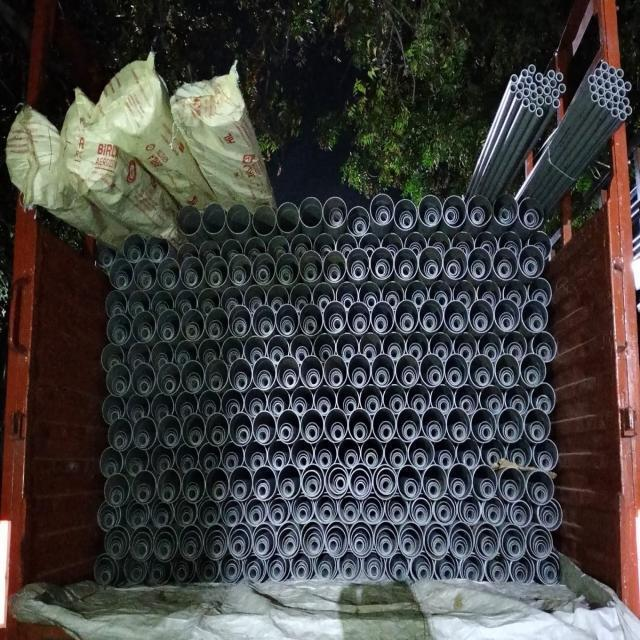pipe: (297, 189, 324, 231), (519, 296, 548, 333), (393, 246, 420, 283), (500, 523, 527, 560), (373, 520, 398, 559), (249, 199, 277, 233), (324, 520, 349, 558), (368, 192, 395, 227), (407, 433, 434, 468), (372, 243, 396, 282), (448, 462, 473, 499), (277, 466, 302, 503), (498, 408, 526, 441), (339, 550, 362, 590), (370, 352, 397, 386), (349, 462, 373, 500), (302, 465, 327, 501), (519, 246, 546, 279), (499, 469, 526, 502), (299, 520, 323, 557), (176, 203, 202, 237), (274, 354, 300, 388), (157, 254, 182, 289), (323, 193, 348, 228), (419, 246, 444, 281), (206, 412, 231, 447), (471, 407, 496, 442), (446, 408, 471, 443), (432, 550, 460, 581), (533, 436, 561, 467), (519, 197, 546, 229), (493, 299, 520, 331), (423, 465, 447, 501), (132, 470, 158, 503), (104, 473, 130, 506), (425, 524, 450, 558), (300, 408, 324, 443), (170, 553, 198, 583), (105, 365, 132, 396), (156, 363, 182, 395), (494, 355, 520, 387), (472, 465, 498, 497), (528, 469, 554, 501), (322, 300, 347, 333), (228, 359, 253, 392), (277, 412, 302, 445), (132, 415, 157, 448), (443, 249, 468, 282), (523, 354, 548, 387), (267, 494, 292, 527), (228, 523, 253, 556), (276, 522, 300, 556), (315, 548, 339, 582), (457, 438, 485, 467), (527, 471, 556, 499), (371, 303, 398, 333), (493, 251, 519, 282), (420, 298, 443, 333), (300, 354, 323, 389), (230, 412, 253, 447), (397, 407, 422, 439), (180, 256, 205, 288), (346, 301, 371, 333), (156, 415, 181, 447), (324, 464, 349, 496), (373, 466, 398, 498), (93, 550, 118, 582), (154, 525, 179, 557), (206, 306, 227, 344), (476, 523, 498, 559), (127, 497, 154, 526), (386, 492, 409, 526), (291, 550, 314, 584), (231, 467, 254, 501), (109, 257, 135, 287), (480, 437, 506, 467), (503, 442, 533, 468), (349, 523, 375, 553), (418, 191, 443, 222), (227, 254, 252, 285), (181, 309, 206, 340), (406, 383, 431, 414), (409, 437, 434, 468), (449, 523, 474, 554), (323, 249, 347, 281), (158, 469, 182, 501), (254, 306, 277, 339), (348, 354, 371, 387), (254, 412, 277, 445), (470, 247, 493, 280), (325, 408, 348, 441), (525, 413, 552, 441), (400, 465, 421, 501), (107, 526, 134, 554), (133, 524, 154, 560), (217, 555, 243, 584), (203, 257, 228, 287), (243, 387, 268, 417), (182, 415, 207, 445), (470, 354, 495, 384), (132, 310, 156, 341), (277, 252, 301, 283), (393, 197, 417, 228), (480, 384, 504, 415), (227, 202, 250, 234), (300, 303, 323, 335), (371, 301, 394, 333), (221, 335, 244, 367), (119, 233, 146, 260), (458, 555, 484, 583), (204, 203, 226, 236), (423, 409, 445, 442), (376, 528, 398, 561), (505, 383, 530, 412), (104, 288, 128, 318), (243, 333, 267, 363), (109, 418, 133, 448), (152, 444, 175, 475), (373, 409, 396, 440), (385, 437, 408, 468), (433, 384, 455, 416), (135, 257, 157, 289), (382, 384, 408, 411), (468, 301, 494, 328), (131, 366, 156, 394), (102, 395, 127, 423), (531, 335, 556, 363), (198, 442, 223, 470), (253, 358, 276, 388), (406, 279, 429, 309), (361, 437, 384, 467), (338, 437, 361, 467), (206, 469, 229, 499), (486, 553, 509, 583), (205, 358, 227, 389), (495, 195, 517, 226), (247, 553, 269, 584), (364, 546, 384, 580), (127, 343, 153, 369), (479, 332, 503, 360), (349, 410, 373, 438), (312, 282, 335, 311), (359, 331, 382, 360), (336, 332, 359, 361), (454, 331, 477, 360), (337, 383, 360, 412), (431, 495, 454, 524), (266, 282, 288, 312), (447, 195, 469, 225), (361, 385, 383, 415), (361, 496, 383, 526), (404, 280, 429, 306), (476, 279, 501, 305), (483, 497, 508, 523), (177, 392, 201, 419), (146, 232, 169, 260), (102, 343, 125, 371), (152, 341, 175, 369), (126, 448, 149, 476), (184, 469, 207, 497), (314, 439, 337, 467), (126, 555, 149, 583), (175, 498, 198, 526), (267, 552, 290, 580), (537, 553, 560, 581), (277, 202, 299, 231), (408, 331, 429, 361), (528, 232, 553, 257), (468, 201, 492, 227), (290, 440, 314, 466), (335, 281, 358, 308), (200, 391, 223, 418), (222, 389, 245, 416), (349, 204, 369, 235), (445, 354, 465, 385), (456, 384, 478, 412), (338, 494, 360, 522), (429, 279, 450, 308), (314, 385, 335, 414), (411, 495, 432, 524), (255, 528, 274, 560), (220, 286, 244, 311), (528, 280, 553, 304), (293, 336, 316, 362), (175, 340, 198, 366), (102, 449, 125, 475), (532, 384, 555, 410), (430, 333, 452, 360), (314, 332, 336, 359), (182, 361, 204, 388), (435, 438, 457, 465), (293, 497, 315, 524), (154, 498, 176, 525), (176, 443, 197, 471), (459, 496, 480, 524), (184, 524, 205, 552), (540, 501, 560, 530), (242, 285, 266, 309), (290, 233, 313, 258), (269, 388, 292, 413), (498, 230, 521, 255), (383, 332, 405, 358), (411, 554, 433, 580), (175, 288, 196, 315), (129, 290, 150, 317), (268, 335, 289, 362), (268, 440, 289, 467), (197, 288, 220, 312), (290, 387, 314, 410), (150, 393, 174, 416), (455, 279, 478, 303), (398, 529, 421, 553), (148, 561, 172, 584), (128, 392, 150, 417), (452, 231, 474, 256), (389, 554, 411, 579), (100, 503, 121, 529), (198, 555, 218, 582), (248, 441, 268, 468), (378, 234, 406, 253), (152, 290, 174, 314), (506, 279, 527, 304), (206, 529, 226, 555), (246, 498, 266, 524), (377, 469, 396, 496), (220, 240, 243, 262), (314, 233, 337, 255), (199, 338, 219, 363), (478, 529, 498, 554), (155, 534, 175, 559), (258, 464, 278, 489), (530, 530, 550, 555), (330, 467, 348, 494), (232, 528, 250, 555), (405, 232, 427, 254), (201, 501, 221, 525), (512, 562, 532, 586), (174, 241, 199, 260), (290, 283, 309, 308), (302, 529, 321, 554), (351, 468, 369, 494), (430, 229, 451, 251), (245, 237, 264, 261), (429, 528, 448, 552), (453, 530, 471, 555), (384, 282, 405, 303), (503, 237, 524, 258), (225, 500, 243, 524), (336, 234, 357, 254), (358, 232, 379, 252), (199, 241, 221, 260), (514, 502, 532, 525), (491, 559, 508, 583), (374, 256, 393, 277), (326, 206, 344, 228), (328, 310, 345, 333), (132, 533, 152, 552), (108, 483, 126, 504), (502, 478, 519, 500), (270, 558, 284, 584), (362, 288, 381, 307), (185, 322, 202, 343), (351, 311, 368, 332), (269, 501, 286, 522), (255, 532, 271, 554), (137, 372, 152, 395), (210, 533, 225, 556), (443, 205, 460, 225), (384, 289, 401, 309), (296, 341, 313, 361), (328, 367, 345, 387), (225, 397, 242, 417), (352, 421, 369, 441), (506, 535, 522, 556), (503, 420, 518, 442), (159, 269, 178, 286), (248, 398, 265, 417), (480, 231, 499, 248), (487, 393, 503, 413), (530, 420, 546, 440), (542, 562, 558, 582), (437, 393, 452, 414), (413, 503, 427, 525), (284, 533, 298, 555), (199, 296, 216, 314), (295, 297, 313, 314), (319, 343, 337, 360), (351, 369, 368, 387), (256, 369, 273, 387), (352, 537, 369, 555), (499, 366, 515, 385), (451, 478, 467, 497), (438, 562, 457, 578), (254, 480, 273, 496), (233, 316, 248, 336), (374, 313, 389, 333), (390, 394, 405, 414), (234, 372, 249, 392), (235, 425, 250, 445), (538, 341, 553, 361), (354, 476, 369, 496), (405, 478, 420, 498), (480, 479, 495, 499), (226, 507, 241, 527), (540, 447, 555, 467), (388, 341, 402, 362), (326, 264, 343, 281), (130, 353, 147, 370), (137, 321, 153, 339), (427, 367, 443, 385), (412, 395, 428, 413), (269, 394, 285, 412), (496, 259, 514, 275), (499, 311, 515, 329), (507, 342, 523, 360), (426, 421, 442, 439), (401, 420, 417, 438), (511, 448, 527, 466), (294, 559, 310, 577), (464, 563, 480, 581), (225, 450, 241, 468), (392, 504, 405, 526), (271, 298, 286, 317), (280, 316, 295, 335), (375, 205, 390, 224), (162, 374, 177, 393), (472, 258, 487, 277), (444, 260, 463, 275), (478, 421, 493, 440), (462, 448, 477, 467), (486, 505, 501, 524), (304, 261, 318, 281), (363, 340, 377, 360), (318, 500, 332, 520), (257, 264, 270, 285), (463, 501, 476, 522), (398, 259, 414, 276), (292, 395, 308, 412), (523, 258, 540, 274), (532, 287, 549, 303), (510, 395, 526, 412), (208, 268, 223, 286), (352, 216, 367, 234), (399, 210, 414, 228), (317, 396, 332, 414), (209, 371, 224, 389), (155, 403, 173, 418), (257, 425, 272, 443), (109, 488, 124, 506), (476, 367, 491, 385), (525, 366, 540, 384), (272, 451, 287, 469), (202, 561, 217, 579), (332, 474, 346, 493), (402, 534, 416, 553), (379, 534, 392, 554), (180, 504, 193, 524), (138, 271, 154, 287), (156, 300, 172, 316), (424, 208, 440, 224), (247, 347, 263, 363), (506, 289, 522, 305), (503, 484, 519, 500), (479, 536, 495, 552), (232, 266, 247, 283), (247, 295, 262, 312), (342, 346, 357, 363), (294, 347, 309, 364), (402, 367, 417, 384), (448, 369, 463, 386), (281, 369, 296, 386), (187, 371, 202, 388), (296, 503, 311, 520), (415, 561, 430, 578), (135, 540, 150, 557), (353, 259, 365, 280), (507, 75, 519, 96), (319, 241, 333, 259), (307, 367, 321, 385), (280, 423, 294, 441), (113, 372, 127, 390), (453, 423, 467, 441), (318, 448, 332, 466), (296, 449, 310, 467), (159, 541, 173, 559), (250, 453, 264, 471), (424, 257, 437, 276), (456, 291, 475, 304), (184, 269, 199, 285), (282, 263, 294, 283), (297, 299, 312, 315), (365, 293, 381, 308), (365, 343, 377, 363), (189, 426, 204, 442), (522, 209, 537, 225), (355, 425, 370, 441), (161, 323, 175, 340), (295, 242, 309, 259), (303, 316, 317, 333), (435, 291, 449, 308), (203, 399, 217, 416), (306, 424, 320, 441), (165, 428, 179, 445), (481, 237, 495, 254), (184, 537, 198, 554), (259, 318, 272, 336), (105, 457, 118, 475), (501, 369, 514, 387), (414, 451, 427, 469), (364, 502, 377, 520), (214, 482, 227, 500), (128, 245, 143, 260), (115, 270, 129, 286), (317, 295, 331, 311), (343, 396, 357, 412), (107, 355, 123, 369), (529, 311, 543, 327), (474, 312, 488, 328), (331, 422, 345, 438), (431, 537, 445, 553), (331, 314, 344, 331), (428, 369, 441, 386), (138, 483, 151, 500), (390, 450, 403, 467), (427, 478, 440, 495), (176, 562, 189, 579), (204, 506, 217, 523), (328, 536, 339, 556), (331, 210, 343, 228), (401, 311, 413, 329), (437, 503, 449, 521), (393, 560, 405, 578), (354, 316, 368, 331), (136, 430, 150, 445), (114, 432, 129, 446), (161, 484, 175, 499), (364, 450, 378, 465), (369, 560, 380, 579), (403, 370, 416, 386), (459, 344, 472, 360), (366, 394, 379, 410), (355, 479, 368, 495), (139, 325, 151, 342), (341, 292, 353, 309), (425, 312, 437, 329), (177, 352, 189, 369), (462, 395, 474, 412), (506, 424, 518, 441), (345, 449, 357, 466), (133, 569, 145, 586), (187, 324, 198, 342), (226, 560, 237, 578), (536, 481, 547, 499), (179, 300, 193, 314), (223, 295, 238, 308), (228, 349, 243, 362), (188, 375, 201, 390), (213, 426, 226, 441), (130, 458, 143, 473), (156, 454, 169, 469), (181, 455, 194, 470), (457, 238, 470, 253), (153, 564, 166, 579), (232, 538, 245, 553), (250, 506, 263, 521), (376, 260, 388, 276), (451, 312, 463, 328), (331, 371, 343, 387), (271, 345, 283, 361), (489, 450, 501, 466), (321, 564, 333, 580), (382, 475, 392, 494), (114, 325, 125, 342), (155, 508, 166, 525), (320, 346, 333, 360), (439, 451, 452, 465), (248, 247, 260, 262), (273, 244, 285, 259), (499, 264, 514, 276), (484, 290, 496, 305), (475, 315, 487, 330), (478, 369, 488, 387), (381, 423, 393, 438), (297, 453, 309, 468), (454, 482, 466, 497), (204, 452, 216, 467), (526, 60, 537, 76), (133, 301, 144, 317), (335, 476, 346, 492), (345, 564, 356, 580), (537, 537, 547, 554), (140, 274, 153, 287), (237, 323, 250, 336), (378, 210, 391, 223), (318, 400, 331, 413), (182, 404, 195, 417), (271, 400, 284, 413), (190, 429, 203, 442), (108, 408, 121, 421), (132, 408, 145, 421), (485, 344, 498, 357), (306, 480, 319, 493), (545, 67, 557, 81), (163, 272, 175, 286), (329, 266, 341, 280), (364, 245, 376, 259), (435, 345, 447, 359), (412, 289, 424, 303), (455, 537, 467, 551), (210, 321, 221, 336), (282, 319, 293, 334), (446, 209, 457, 224), (437, 294, 448, 309), (353, 371, 364, 386), (236, 374, 247, 389), (473, 207, 484, 222), (500, 207, 511, 222), (214, 540, 225, 555), (230, 399, 240, 415), (227, 250, 239, 263), (157, 305, 169, 318), (534, 241, 547, 253), (448, 261, 460, 274), (532, 425, 544, 438), (273, 454, 285, 467), (591, 92, 602, 106), (551, 98, 562, 112), (203, 301, 214, 315), (342, 295, 353, 309), (401, 213, 412, 227), (412, 240, 423, 254), (259, 373, 270, 387), (157, 355, 171, 366), (99, 569, 110, 583), (377, 370, 387, 385), (140, 377, 150, 392), (320, 452, 330, 467), (227, 300, 239, 312), (387, 293, 399, 305), (204, 350, 216, 362), (396, 564, 405, 580), (114, 536, 122, 554), (544, 508, 556, 520), (117, 276, 128, 289), (296, 349, 307, 362), (450, 371, 461, 384), (187, 484, 198, 497), (405, 425, 416, 438), (284, 483, 295, 496), (306, 265, 316, 279), (435, 242, 445, 256), (390, 346, 400, 360), (308, 371, 318, 385), (368, 398, 378, 412), (212, 376, 222, 390), (507, 241, 517, 255), (345, 506, 355, 520), (547, 568, 557, 582), (518, 564, 526, 581), (535, 105, 544, 120), (274, 301, 283, 316), (181, 303, 193, 314), (111, 302, 122, 314), (446, 212, 458, 223), (252, 351, 263, 363), (251, 402, 262, 414), (132, 356, 144, 367), (458, 294, 469, 306), (501, 315, 513, 326), (481, 425, 492, 437), (132, 510, 144, 521), (187, 271, 197, 284), (235, 270, 245, 283), (251, 299, 261, 312), (356, 220, 366, 233), (376, 317, 386, 330), (239, 427, 249, 440), (281, 427, 291, 440), (473, 263, 483, 276), (454, 483, 464, 496), (514, 454, 524, 467), (262, 322, 271, 336), (404, 540, 413, 554), (342, 244, 353, 255), (203, 249, 215, 259), (401, 263, 411, 275), (426, 263, 436, 275), (428, 210, 436, 225), (423, 318, 435, 328), (344, 347, 354, 359), (377, 373, 387, 385), (405, 372, 415, 384), (486, 346, 496, 358), (503, 374, 513, 386), (430, 426, 440, 438), (366, 452, 376, 464), (407, 483, 417, 495), (483, 484, 493, 496), (236, 485, 246, 497), (212, 272, 221, 285), (416, 399, 425, 412), (527, 260, 536, 273), (540, 347, 549, 360), (466, 455, 475, 468), (429, 483, 438, 496), (490, 510, 499, 523), (206, 511, 215, 524), (485, 541, 493, 555), (558, 81, 568, 92), (129, 249, 140, 259), (153, 245, 164, 255), (333, 319, 343, 330), (321, 349, 332, 359), (346, 401, 357, 411), (307, 427, 317, 438), (369, 508, 379, 519), (395, 510, 405, 521), (321, 507, 331, 518), (467, 567, 477, 578), (587, 72, 596, 84), (164, 327, 173, 339), (411, 345, 420, 357), (286, 373, 295, 385), (347, 454, 356, 466), (382, 480, 391, 492), (216, 486, 225, 498), (257, 540, 266, 552), (273, 565, 282, 577), (493, 566, 502, 578), (601, 61, 609, 74), (308, 320, 316, 333), (368, 296, 376, 309), (169, 433, 177, 446), (456, 427, 464, 440), (357, 480, 365, 493), (440, 507, 448, 520), (357, 540, 365, 553), (543, 454, 551, 467), (616, 68, 626, 78), (152, 249, 162, 259), (432, 373, 442, 383), (393, 399, 403, 409), (295, 402, 305, 412), (258, 431, 267, 442), (115, 380, 124, 391), (132, 463, 141, 474), (113, 492, 122, 503), (501, 264, 510, 275), (514, 400, 523, 411), (507, 427, 516, 438), (161, 545, 170, 556), (186, 543, 195, 554), (259, 268, 267, 280), (440, 400, 448, 412), (337, 478, 345, 490), (467, 509, 475, 521), (183, 510, 191, 522), (613, 92, 620, 105), (231, 403, 238, 416), (480, 370, 487, 383), (250, 565, 257, 578), (512, 542, 519, 555), (525, 75, 534, 85), (536, 96, 546, 105), (135, 305, 144, 315), (113, 306, 122, 316), (116, 331, 125, 341), (281, 272, 290, 282), (320, 299, 329, 309), (355, 223, 365, 232), (380, 211, 389, 221), (412, 244, 421, 254), (452, 318, 461, 328), (164, 381, 174, 390), (183, 407, 193, 416), (159, 407, 168, 417), (115, 436, 124, 446), (164, 490, 173, 500), (536, 294, 545, 304), (511, 348, 521, 357), (299, 456, 308, 466), (275, 457, 284, 467), (507, 487, 516, 497), (104, 513, 114, 522), (226, 513, 236, 522), (510, 72, 518, 83), (537, 84, 545, 95), (528, 103, 536, 114), (617, 101, 625, 112), (605, 91, 613, 102), (165, 275, 173, 286), (236, 272, 244, 283), (211, 325, 219, 336), (405, 317, 413, 328), (356, 375, 364, 386), (207, 353, 215, 364), (184, 458, 192, 469), (383, 427, 391, 438), (417, 509, 425, 520), (153, 569, 161, 580), (178, 570, 186, 581), (142, 275, 149, 287), (310, 374, 317, 386), (207, 403, 214, 415), (162, 459, 169, 471), (557, 71, 566, 80), (552, 89, 561, 98), (610, 84, 619, 93), (297, 352, 306, 361), (212, 379, 221, 388), (190, 379, 199, 388), (609, 74, 617, 84), (545, 95, 553, 105), (523, 98, 531, 108), (523, 87, 531, 97), (153, 251, 161, 261), (141, 328, 149, 338), (188, 327, 196, 337), (333, 213, 341, 223), (357, 320, 365, 330), (403, 216, 411, 226), (402, 266, 410, 276), (417, 400, 425, 410), (321, 403, 329, 413), (253, 352, 261, 362), (238, 377, 246, 387), (158, 358, 168, 366), (273, 404, 281, 414), (111, 411, 119, 421), (138, 433, 146, 443), (108, 466, 116, 476), (476, 265, 484, 275), (485, 297, 493, 307), (394, 456, 402, 466), (416, 455, 424, 465), (420, 567, 428, 577), (521, 69, 528, 80), (530, 83, 537, 94), (531, 90, 538, 101), (597, 77, 604, 88), (619, 86, 626, 97), (277, 248, 284, 259), (345, 298, 352, 309), (366, 347, 373, 358), (370, 400, 377, 411), (262, 376, 269, 387), (492, 400, 499, 411), (322, 456, 329, 467), (536, 73, 545, 81), (517, 92, 523, 104), (590, 84, 598, 93), (616, 80, 625, 88), (605, 102, 614, 110), (118, 277, 126, 286), (252, 251, 258, 263), (204, 305, 213, 313), (263, 325, 271, 334), (298, 248, 306, 257), (300, 302, 308, 311), (390, 296, 398, 305), (345, 350, 353, 359), (296, 404, 304, 413), (214, 431, 222, 440), (140, 382, 149, 390), (482, 245, 491, 253), (533, 318, 542, 326), (477, 318, 485, 327), (533, 428, 541, 437), (334, 428, 342, 437), (490, 455, 498, 464), (228, 568, 236, 577), (228, 458, 237, 466), (518, 80, 525, 90), (595, 67, 602, 77), (626, 106, 633, 116), (612, 109, 619, 119), (132, 250, 139, 260), (331, 269, 338, 279), (334, 374, 341, 384), (463, 348, 470, 358), (230, 353, 237, 363), (254, 404, 261, 414), (192, 433, 199, 443), (241, 430, 248, 440), (189, 489, 196, 499), (503, 211, 510, 221), (527, 212, 534, 222), (511, 294, 518, 304), (541, 400, 548, 410), (382, 543, 389, 553), (235, 543, 242, 553), (623, 96, 629, 107), (609, 66, 617, 74), (604, 81, 612, 89), (229, 303, 237, 311), (438, 350, 446, 358), (134, 412, 142, 420), (463, 401, 471, 409), (543, 77, 550, 86), (550, 80, 557, 89), (625, 82, 632, 91), (189, 276, 196, 285), (323, 249, 330, 258), (285, 324, 292, 333), (273, 351, 280, 360), (449, 264, 456, 273), (442, 456, 449, 465), (275, 303, 281, 313), (488, 349, 494, 359), (620, 113, 628, 120), (366, 249, 374, 256), (436, 248, 443, 256), (140, 490, 148, 497), (475, 211, 482, 219), (504, 318, 511, 326), (139, 547, 146, 555), (599, 98, 604, 109), (439, 295, 445, 304), (181, 355, 187, 364), (206, 458, 211, 468), (544, 86, 551, 93), (343, 249, 349, 257), (253, 303, 259, 310), (413, 248, 419, 255), (160, 307, 165, 313), (287, 334, 293, 336)
